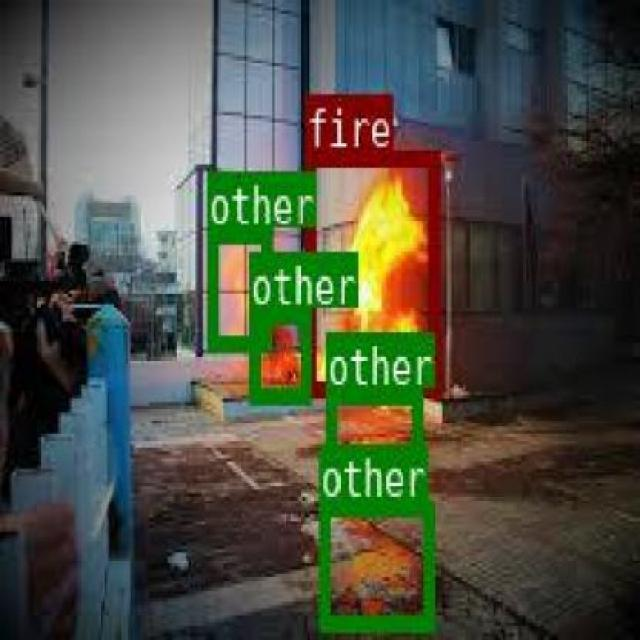Fire: (304, 149, 436, 393)
